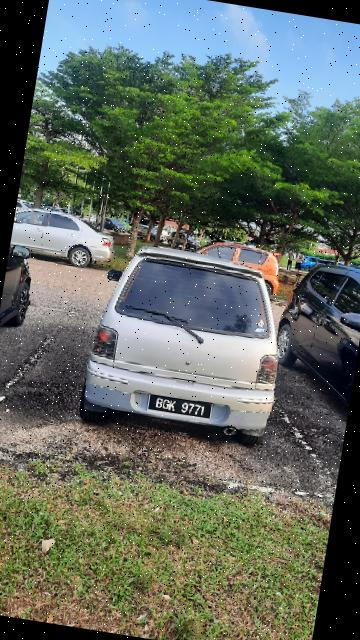License_Plate: (144, 389, 216, 423)
car: (73, 233, 297, 453)
